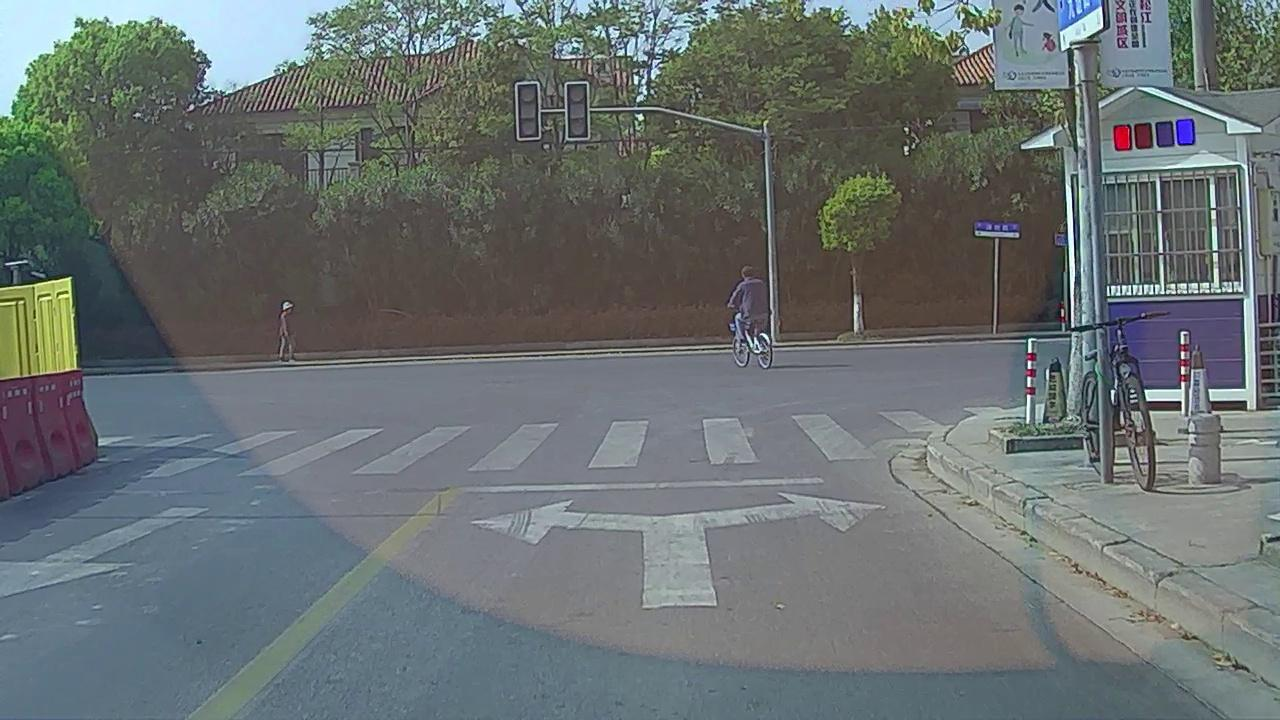traffic_light: (516, 83, 539, 139), (567, 83, 588, 139)
